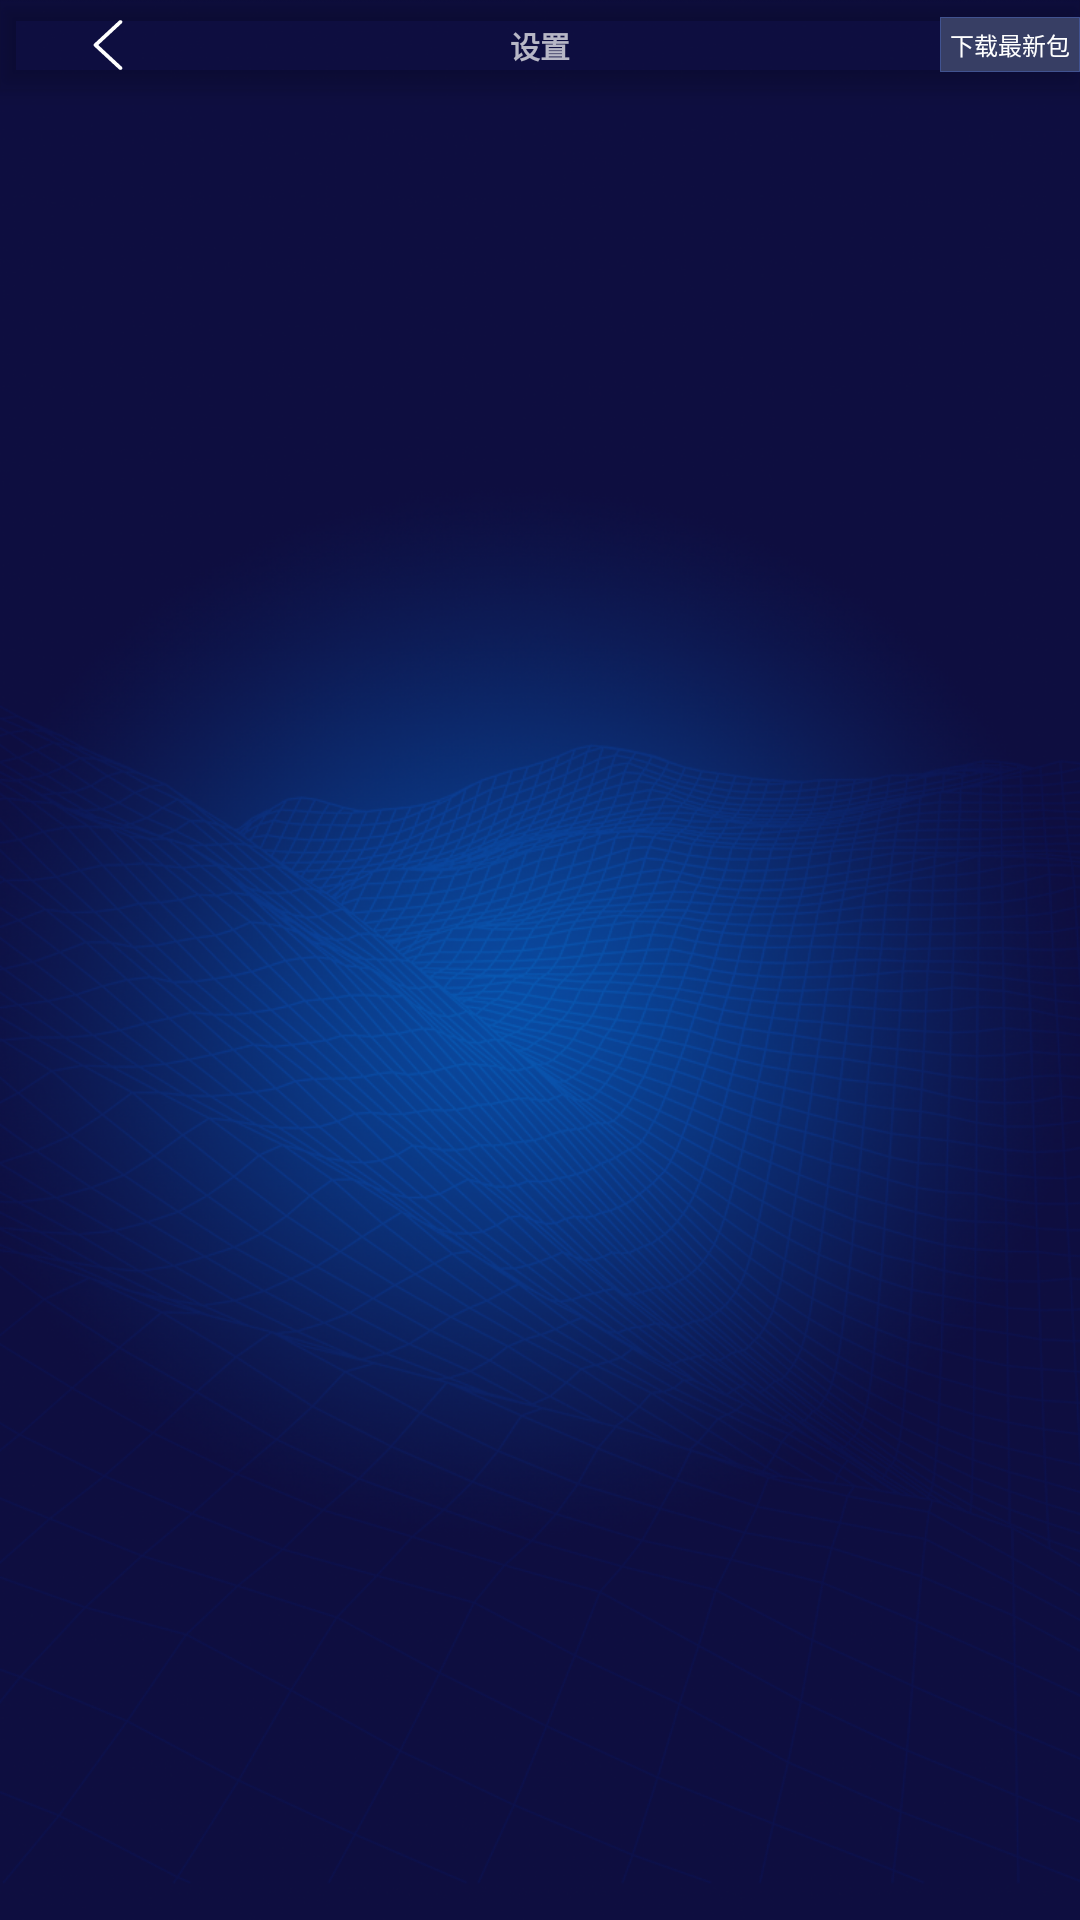

Named icons in this screenshot (1080px×1920px) and their bounding boxes, (x1, y1, x2, y2):
back: (93, 20, 123, 70)
